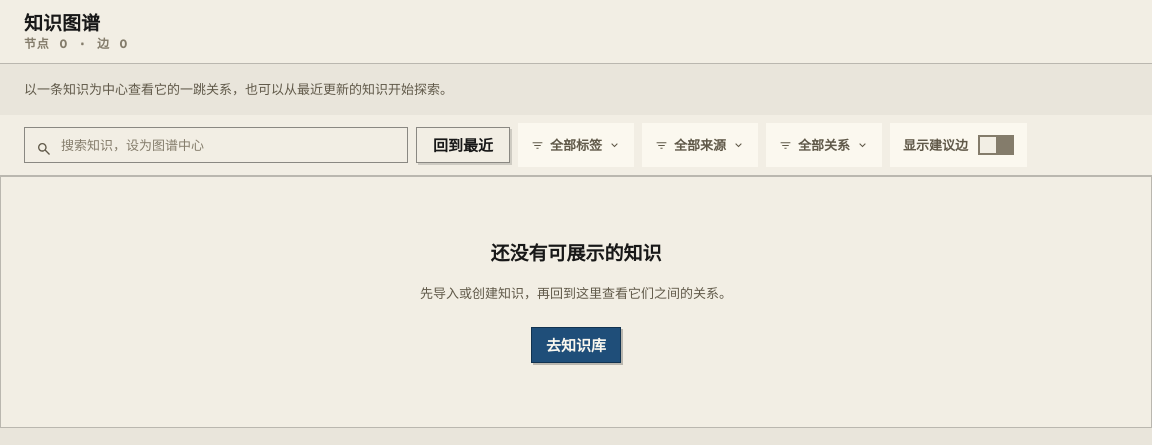
Test: KnowledgeGraph 页面 › 仅打开建议边而图为空时仍显示默认空状态
Click the switch with test id "suggested-toggle".
click(959, 145)  # box top-left (890, 123), bottom-right (1027, 167)
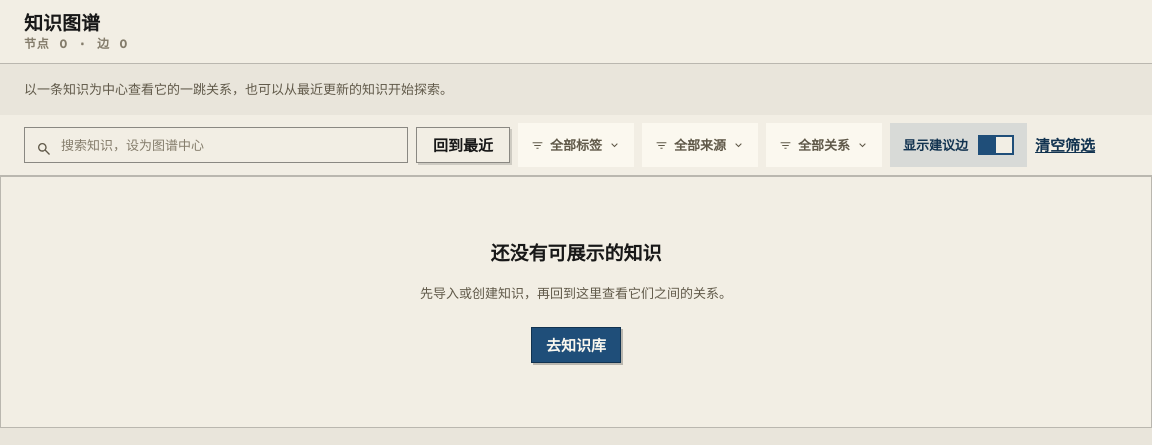
Expected: the text "还没有可展示的知识" is shown, top-left (490, 242), bottom-right (662, 265)
Expected: the button with test id "clear-filters" is shown, top-left (1035, 127), bottom-right (1095, 163)
